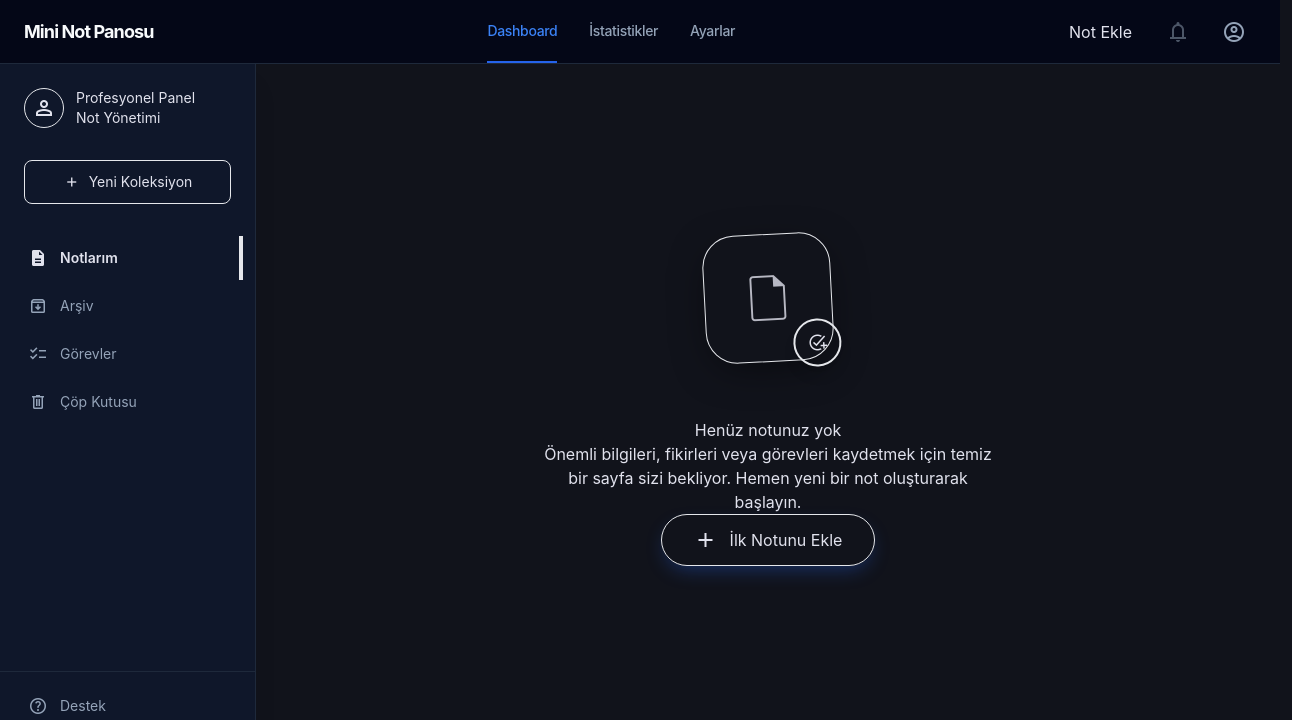
App UI › can add a note from empty state
Click the button "İlk Notunu Ekle": (768, 540) [661,514,875,566]
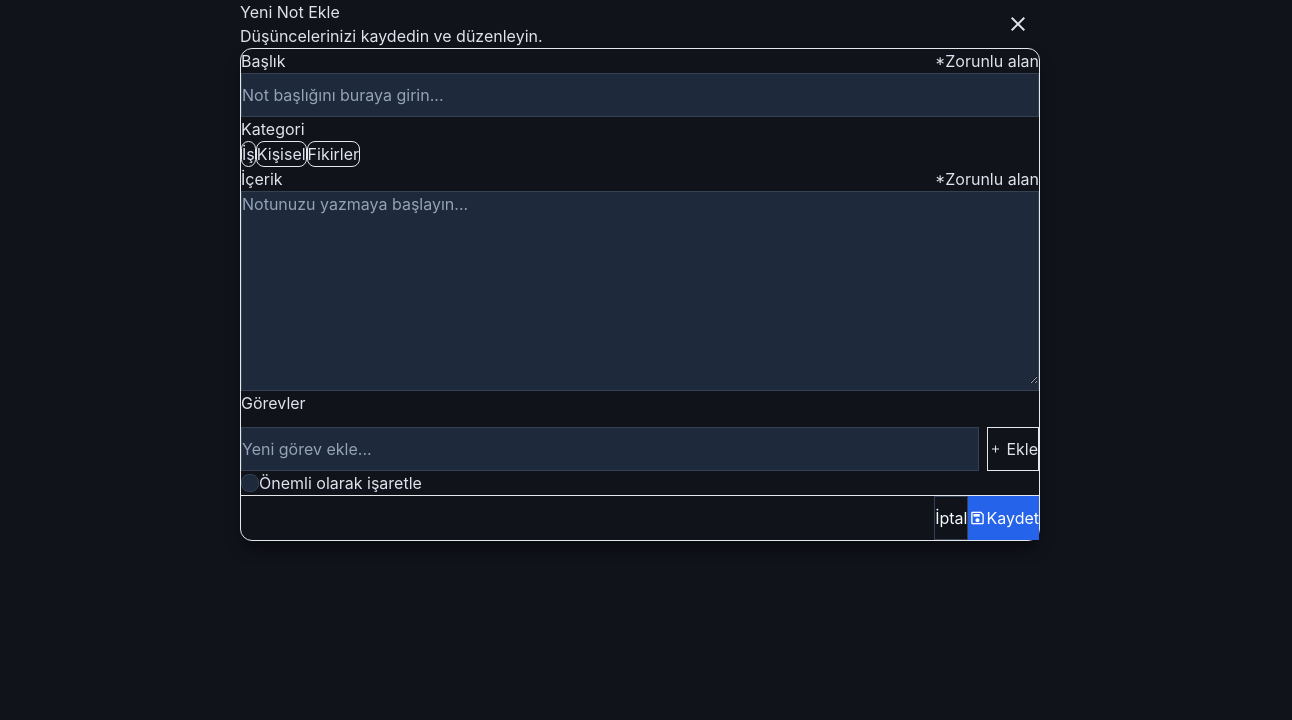
Now the heading "Yeni Not Ekle" is shown, box [240,2,340,22]
In the field with placeholder "Not başlığını buraya girin...": (640, 95) [241,73,1039,117], type "Alışveriş Listesi"
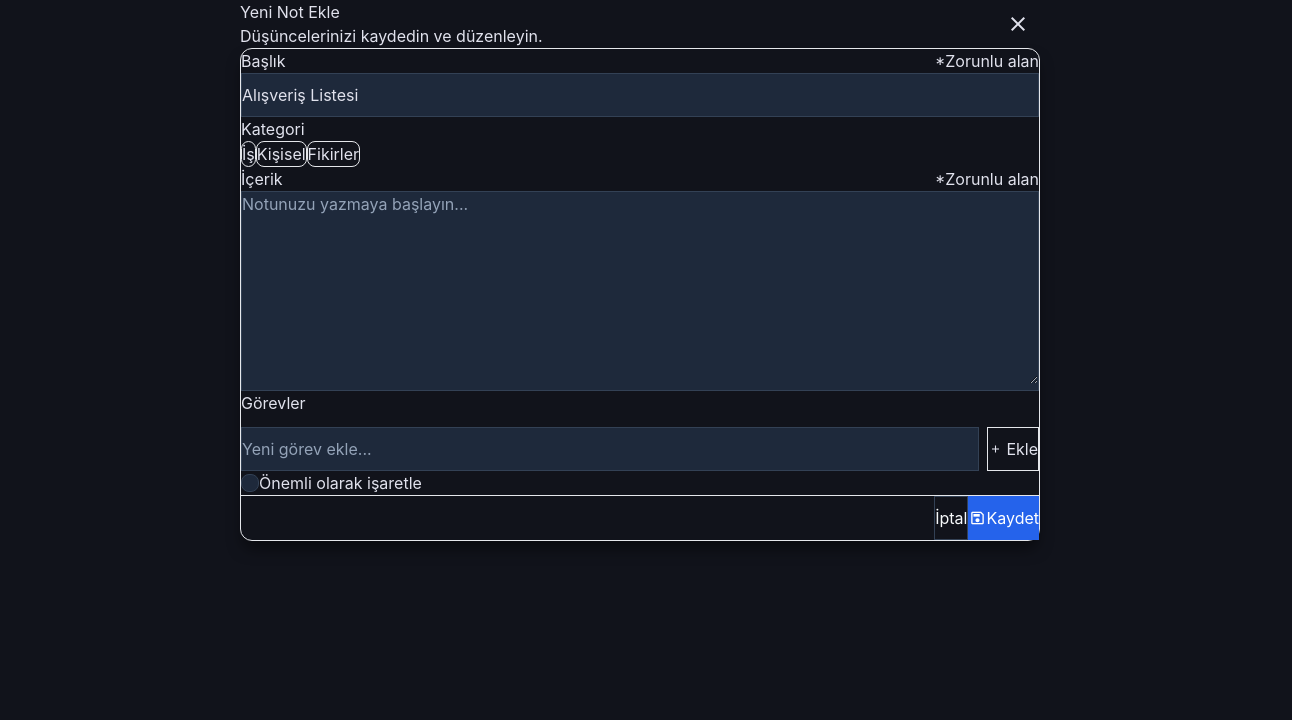
In the text box with placeholder "Notunuzu yazmaya başlayın...": (640, 288) [242,192,1038,384], type "Kahve, süt, ekmek"
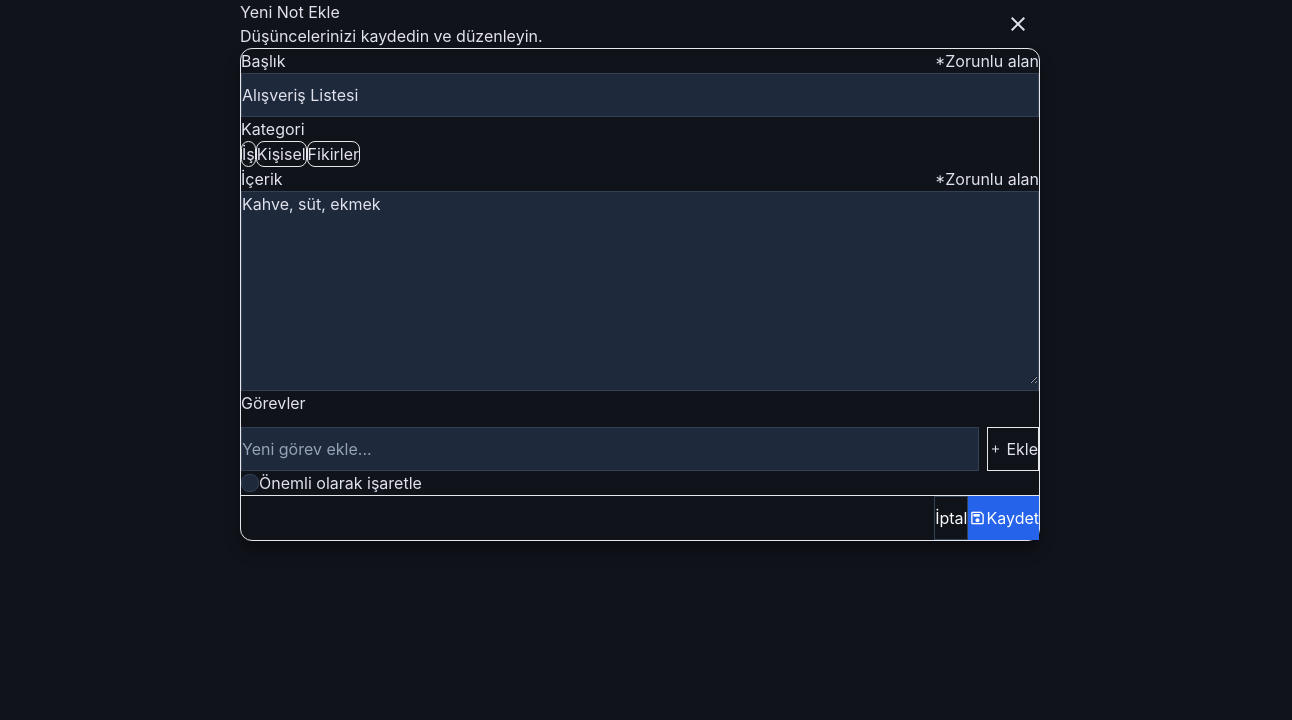
Click the button "Kaydet": (1004, 518) [968,496,1039,540]
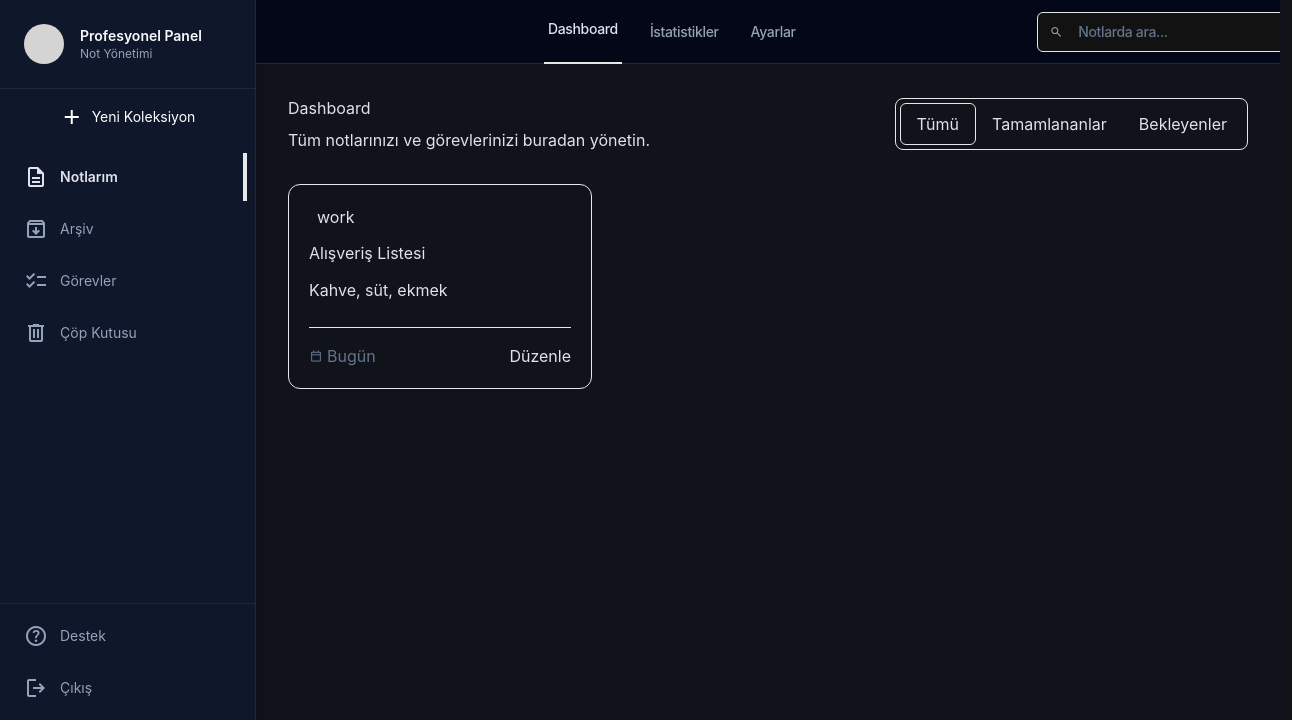
Now the heading "Alışveriş Listesi" is shown, box [309,243,425,263]
